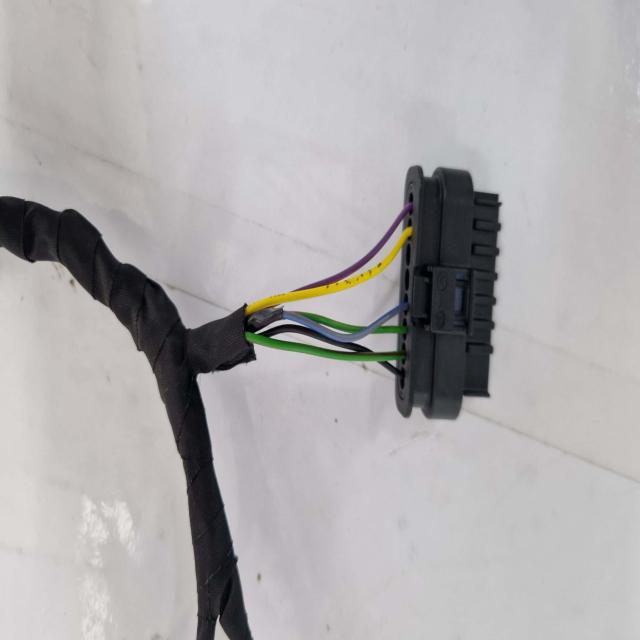Connector: (395, 167, 500, 420)
Gape: (244, 202, 414, 378)
MHEV_N11_Cable: (0, 198, 255, 640)
